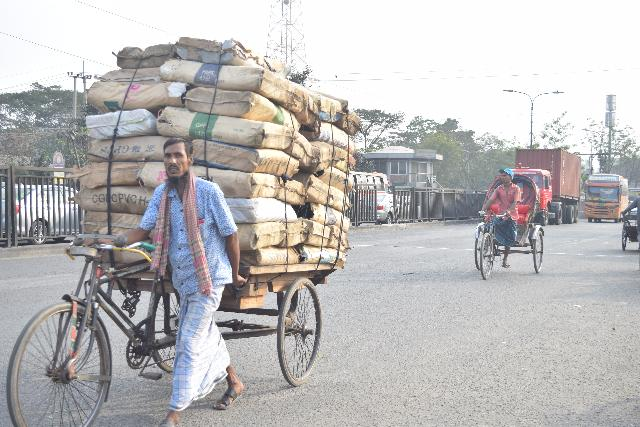bus: (581, 169, 629, 222)
car: (359, 190, 426, 226)
truck: (513, 145, 580, 225)
